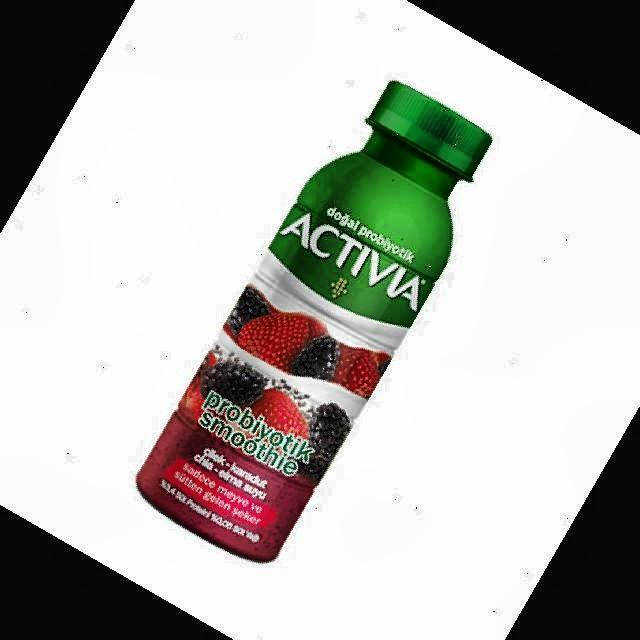plastic: (138, 82, 491, 560)
